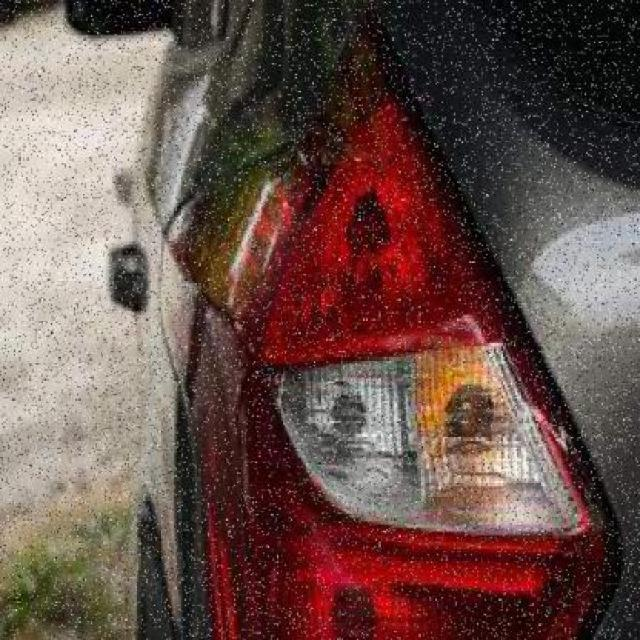Signlight-Damage: (259, 326, 602, 557)
